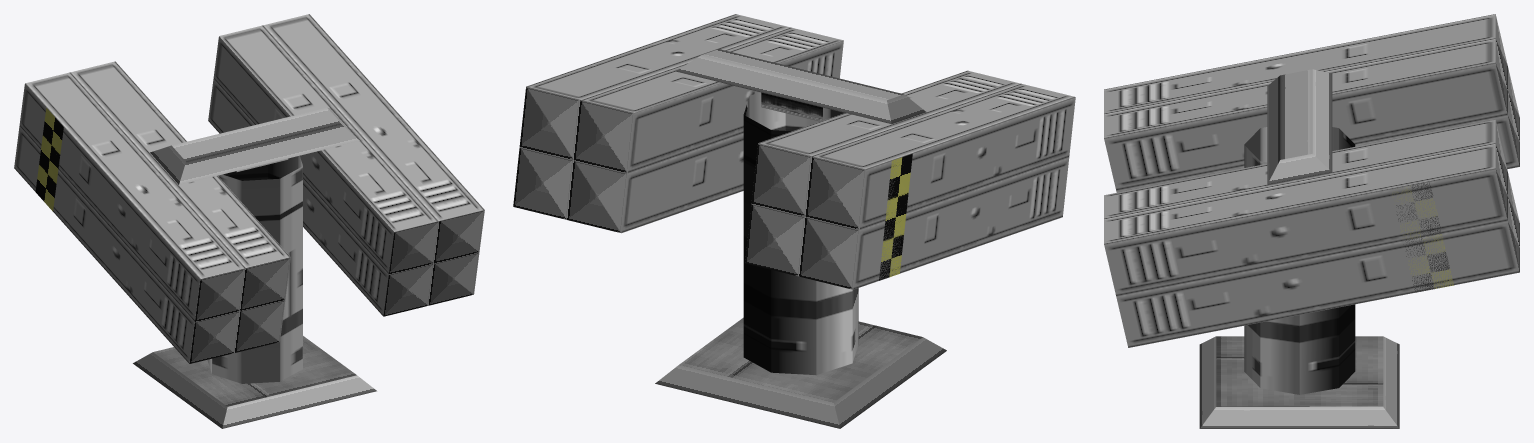
The model's file is primary_052.glb.
3 views of the same model, side by side, from view 1: azimuth 30°, elevation 25°; view 2: azimuth 150°, elevation 25°; view 3: azimuth 270°, elevation 25° (orthographic). The views are drawn at different scales.
Visible parts, largest first — view 1: Object; view 2: Object; view 3: Object.
Part boxes in pixels (box(x1,y1,x2,y2)): Object: box(14, 14, 484, 428); Object: box(513, 14, 1075, 428); Object: box(1104, 14, 1519, 428).
Size of the model in its own units: 2.23 by 1.98 by 2.52.
28 materials, 28 textured.
